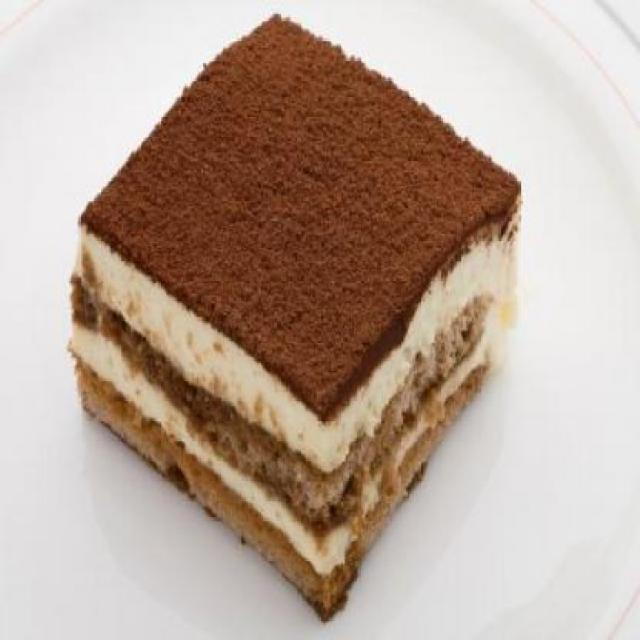Tiramisu: (87, 38, 525, 588)
